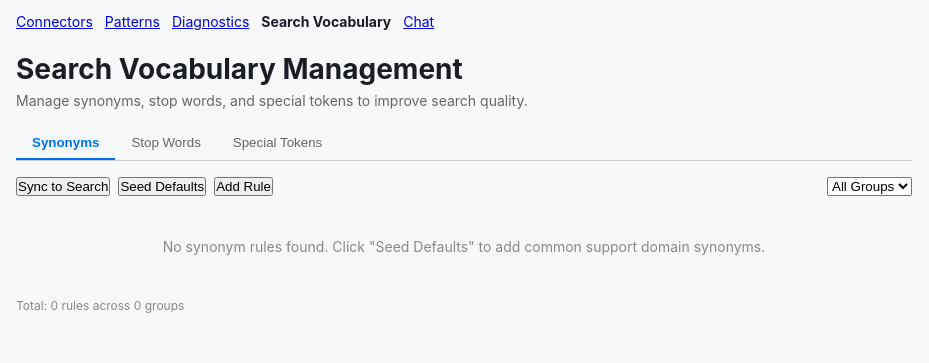
Test: SynonymManagementPage › switches to Stop Words tab and shows empty state
Click the button "Stop Words".
click(166, 144)  # box [115,127,217,160]
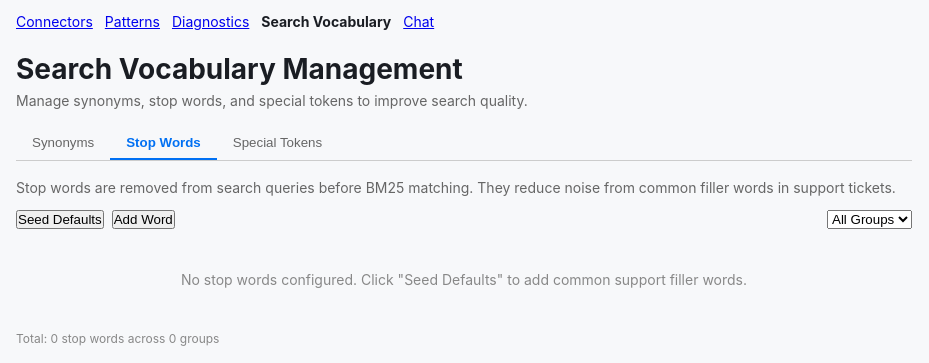
Expected: the text "No stop words configured" is shown, [181,271,747,288]
